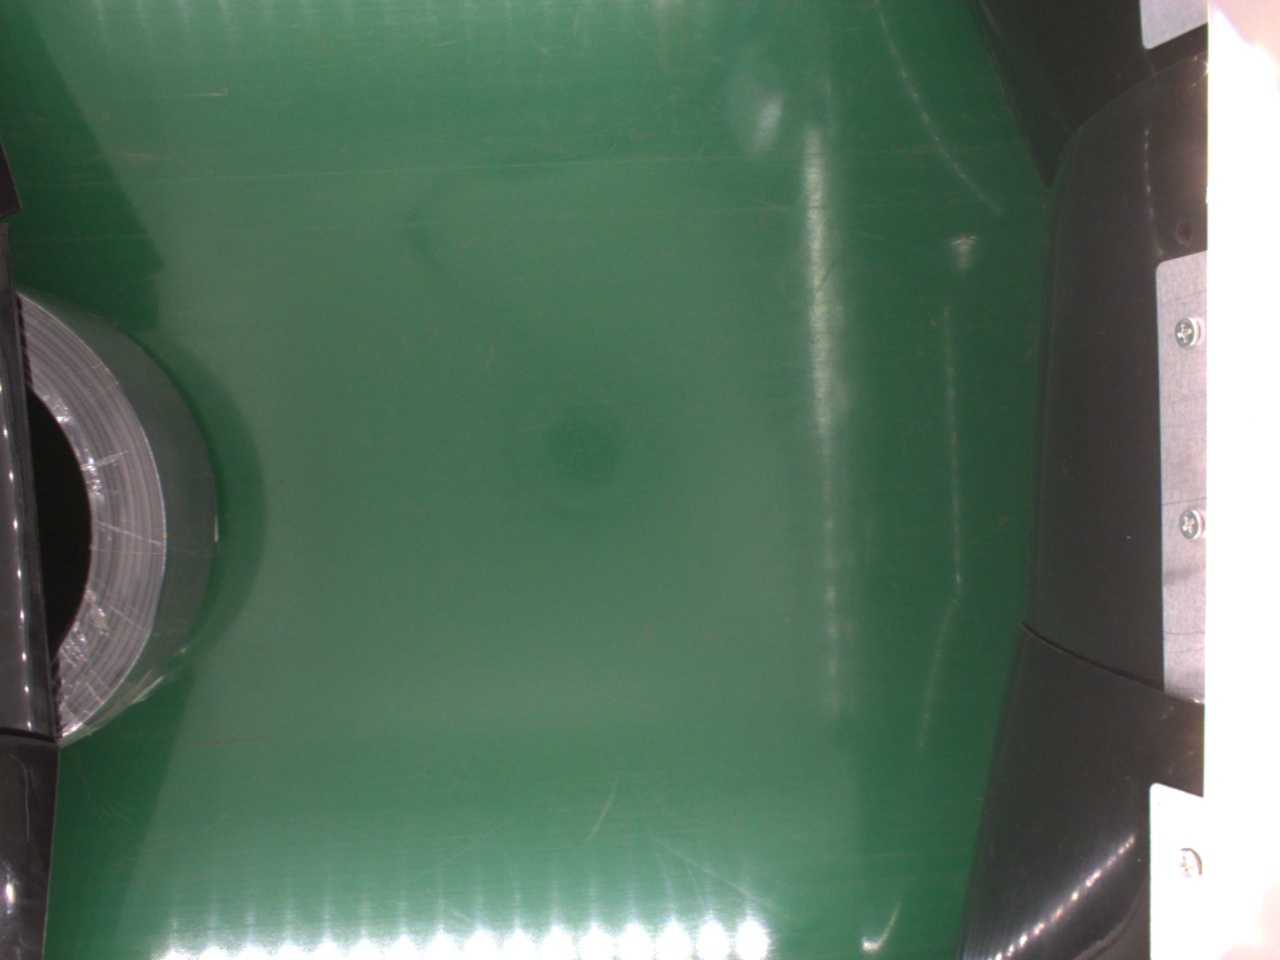black: (10, 284, 221, 752)
